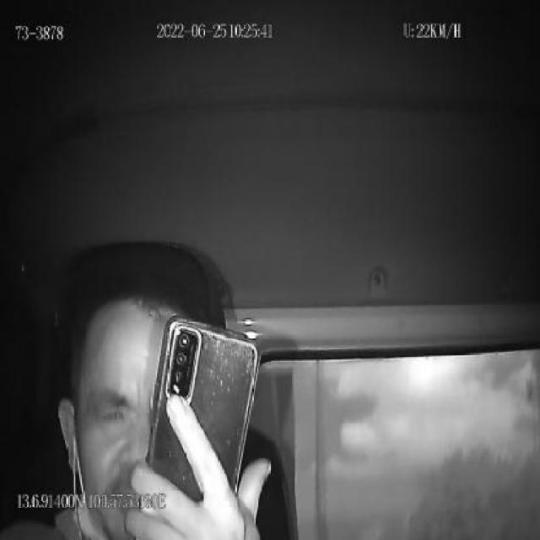phone: (138, 314, 260, 540)
